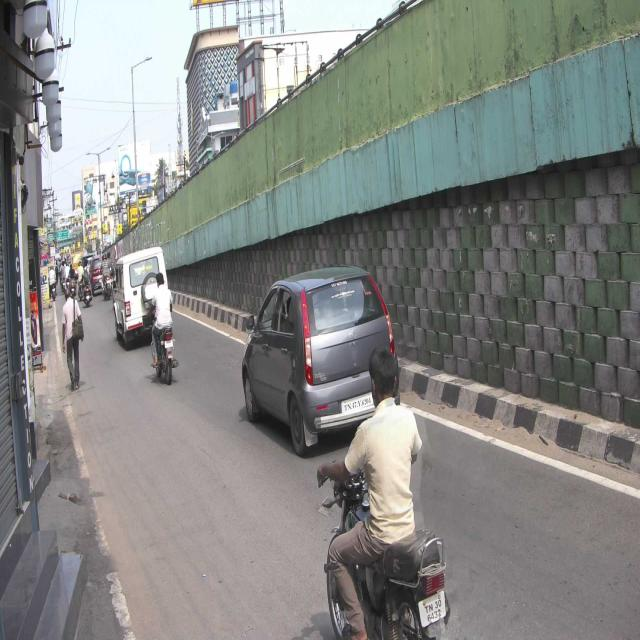single_rider: (315, 344, 451, 640)
